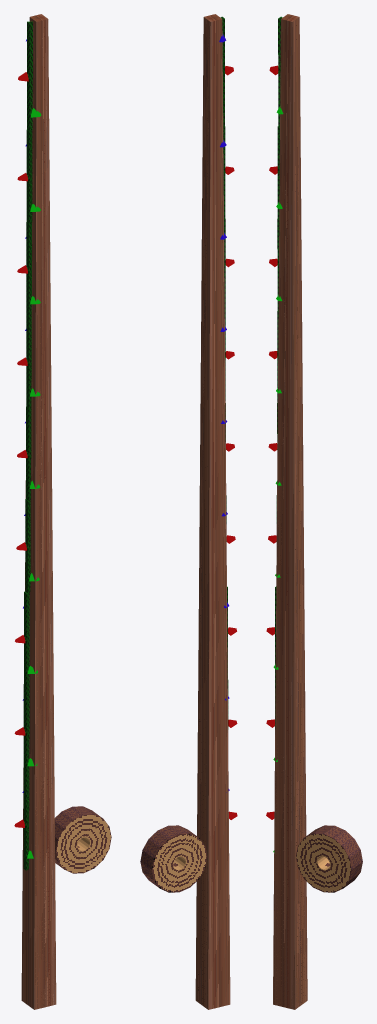
Rendered from fishinrod.glb.
3 renders of one model, left to right at view 1: azimuth 30°, elevation 25°; view 2: azimuth 210°, elevation 25°; view 3: azimuth 330°, elevation 25°, orthographic.
Visible parts, largest first — view 1: rod, line-on-rod, reel; view 2: rod, reel, line-on-rod; view 3: rod, reel, line-on-rod.
Part boxes in pixels (x1=…): rod: x1=21, y1=14, x2=56, y2=1009; line-on-rod: x1=14, y1=21, x2=41, y2=870; reel: x1=55, y1=806, x2=111, y2=873; rod: x1=195, y1=14, x2=230, y2=1009; reel: x1=140, y1=825, x2=207, y2=892; line-on-rod: x1=219, y1=16, x2=237, y2=819; rod: x1=273, y1=14, x2=307, y2=1009; reel: x1=296, y1=825, x2=362, y2=892; line-on-rod: x1=266, y1=16, x2=283, y2=852.
Size of the model in its own units: 0.3081 by 3.2 by 0.0749.
7 materials, 4 textured.
